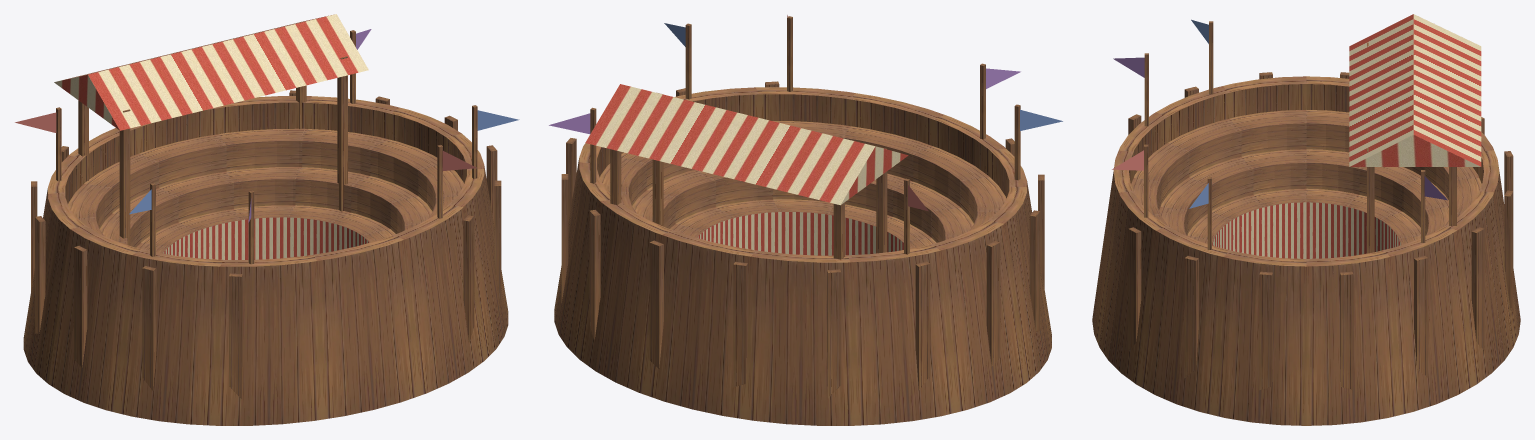
File: arena.glb
3 renders of one model, left to right at view 1: azimuth 30°, elevation 25°; view 2: azimuth 150°, elevation 25°; view 3: azimuth 270°, elevation 25°, orthographic. The views are drawn at different scales.
Visible parts, largest first — view 1: arena; view 2: arena; view 3: arena.
Part boxes in pixels (bbox=[...]): arena: bbox=[15, 14, 519, 425]; arena: bbox=[549, 15, 1062, 425]; arena: bbox=[1092, 14, 1520, 425].
Size of the model in its own units: 7 by 3.8 by 6.
7 materials, 4 textured.
